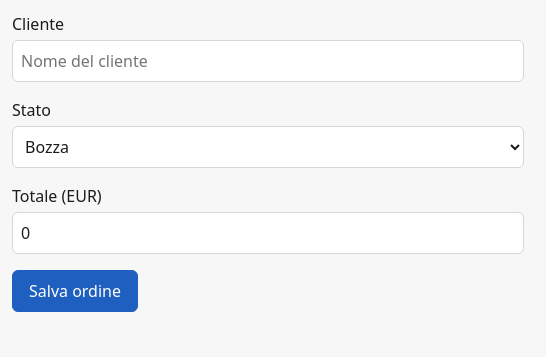
it: OrderForm › validates with Zod and shows translated messages
Click the button "Salva ordine" at [75, 291], box top-left (12, 270), bottom-right (138, 312)
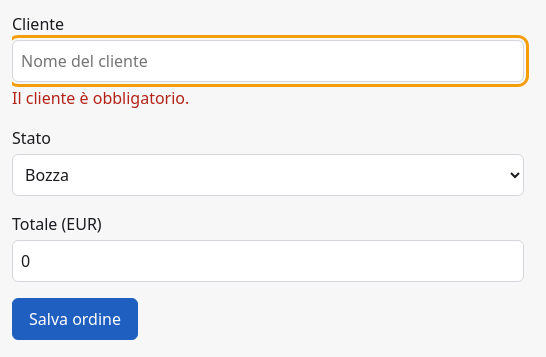
Result: the text "Il cliente è obbligatorio." is shown at top-left (12, 87), bottom-right (189, 109)
